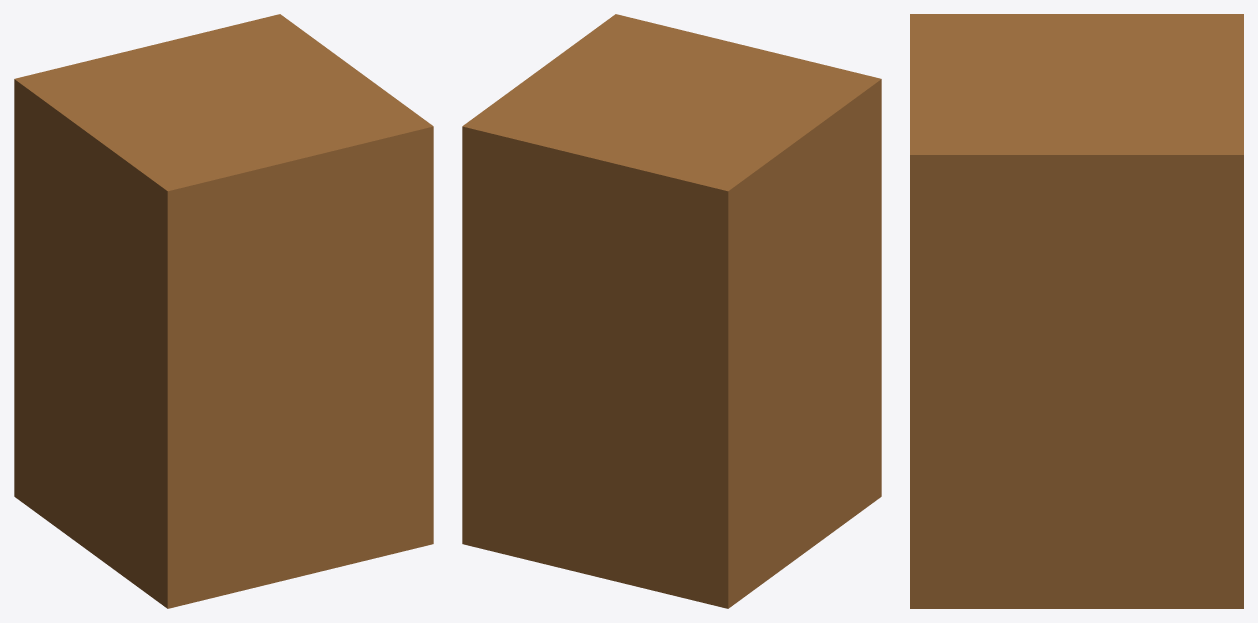
Rendered from goat_kid__tail.glb.
3 renders of one model, left to right at view 1: azimuth 30°, elevation 25°; view 2: azimuth 150°, elevation 25°; view 3: azimuth 270°, elevation 25°, orthographic. The views are drawn at different scales.
Parts seen in each view (by area): view 1: goat_kid__tail; view 2: goat_kid__tail; view 3: goat_kid__tail.
Boxes of the visible parts, box(x1,y1,x2,y2) form: goat_kid__tail: box(14, 14, 433, 608); goat_kid__tail: box(462, 14, 881, 608); goat_kid__tail: box(910, 14, 1243, 608).
Bounding box in the file's own units: 0.2 × 0.3 × 0.2.
1 material, 1 textured.
